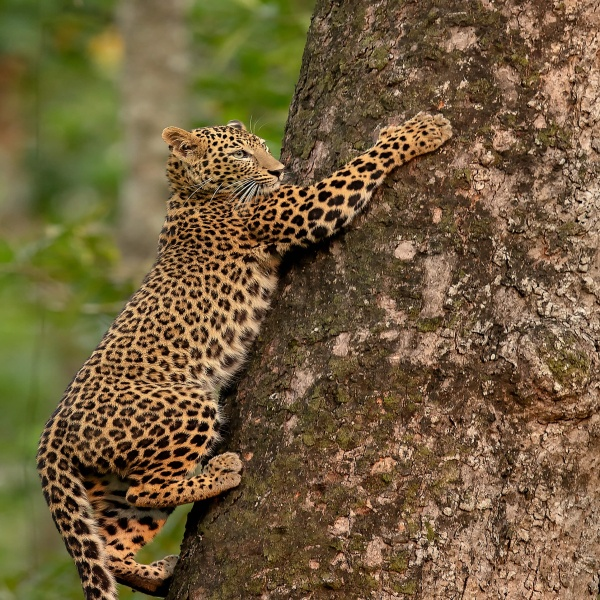Leopard: (33, 109, 457, 600)
